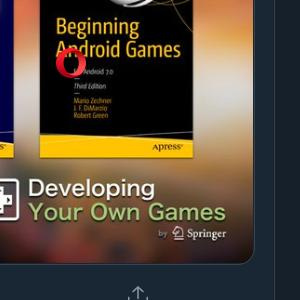opera: (56, 48, 86, 78)
